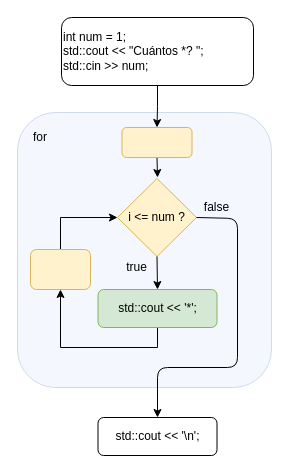
This 289x473 diagram has some shape labels left out. The centre of each missing label's shape, as x and y in pixels:
++i: (60,269)
int i {1}: (156,142)
